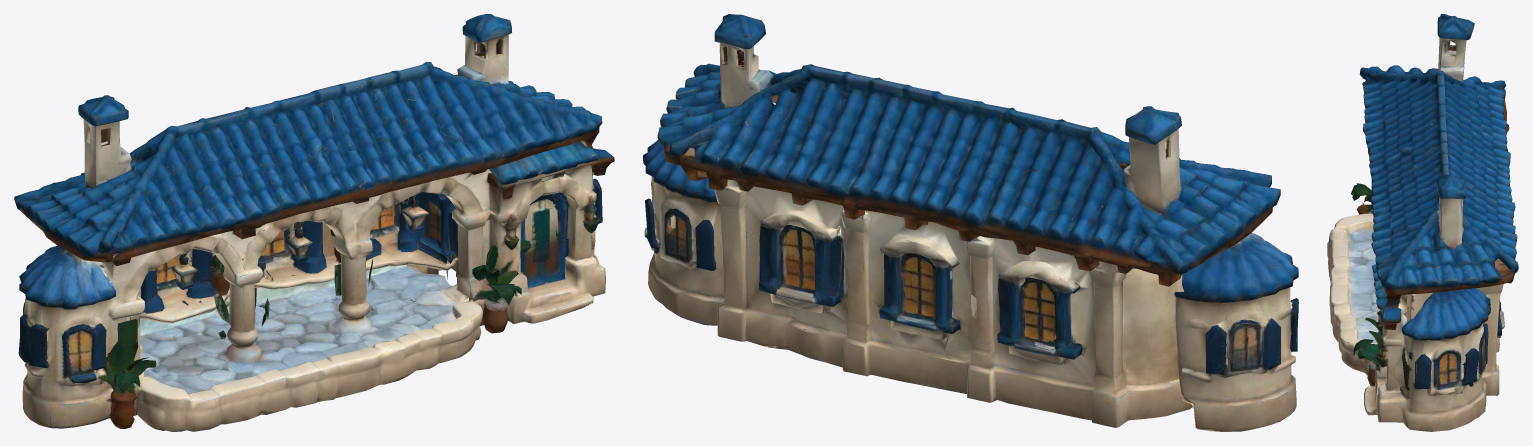
3 renders of one model, left to right at view 1: azimuth 30°, elevation 25°; view 2: azimuth 150°, elevation 25°; view 3: azimuth 270°, elevation 25°, orthographic. The views are drawn at different scales.
Visible parts, largest first — view 1: harbor__onsen_1__native_mobile; view 2: harbor__onsen_1__native_mobile; view 3: harbor__onsen_1__native_mobile.
Boxes of the visible parts, <box> form: harbor__onsen_1__native_mobile: <box>14,14,614,431</box>; harbor__onsen_1__native_mobile: <box>643,14,1298,431</box>; harbor__onsen_1__native_mobile: <box>1327,14,1518,431</box>.
Bounding box in the file's own units: 1 × 0.472 × 0.3491.
Materials: 1 (1 with a texture image).
